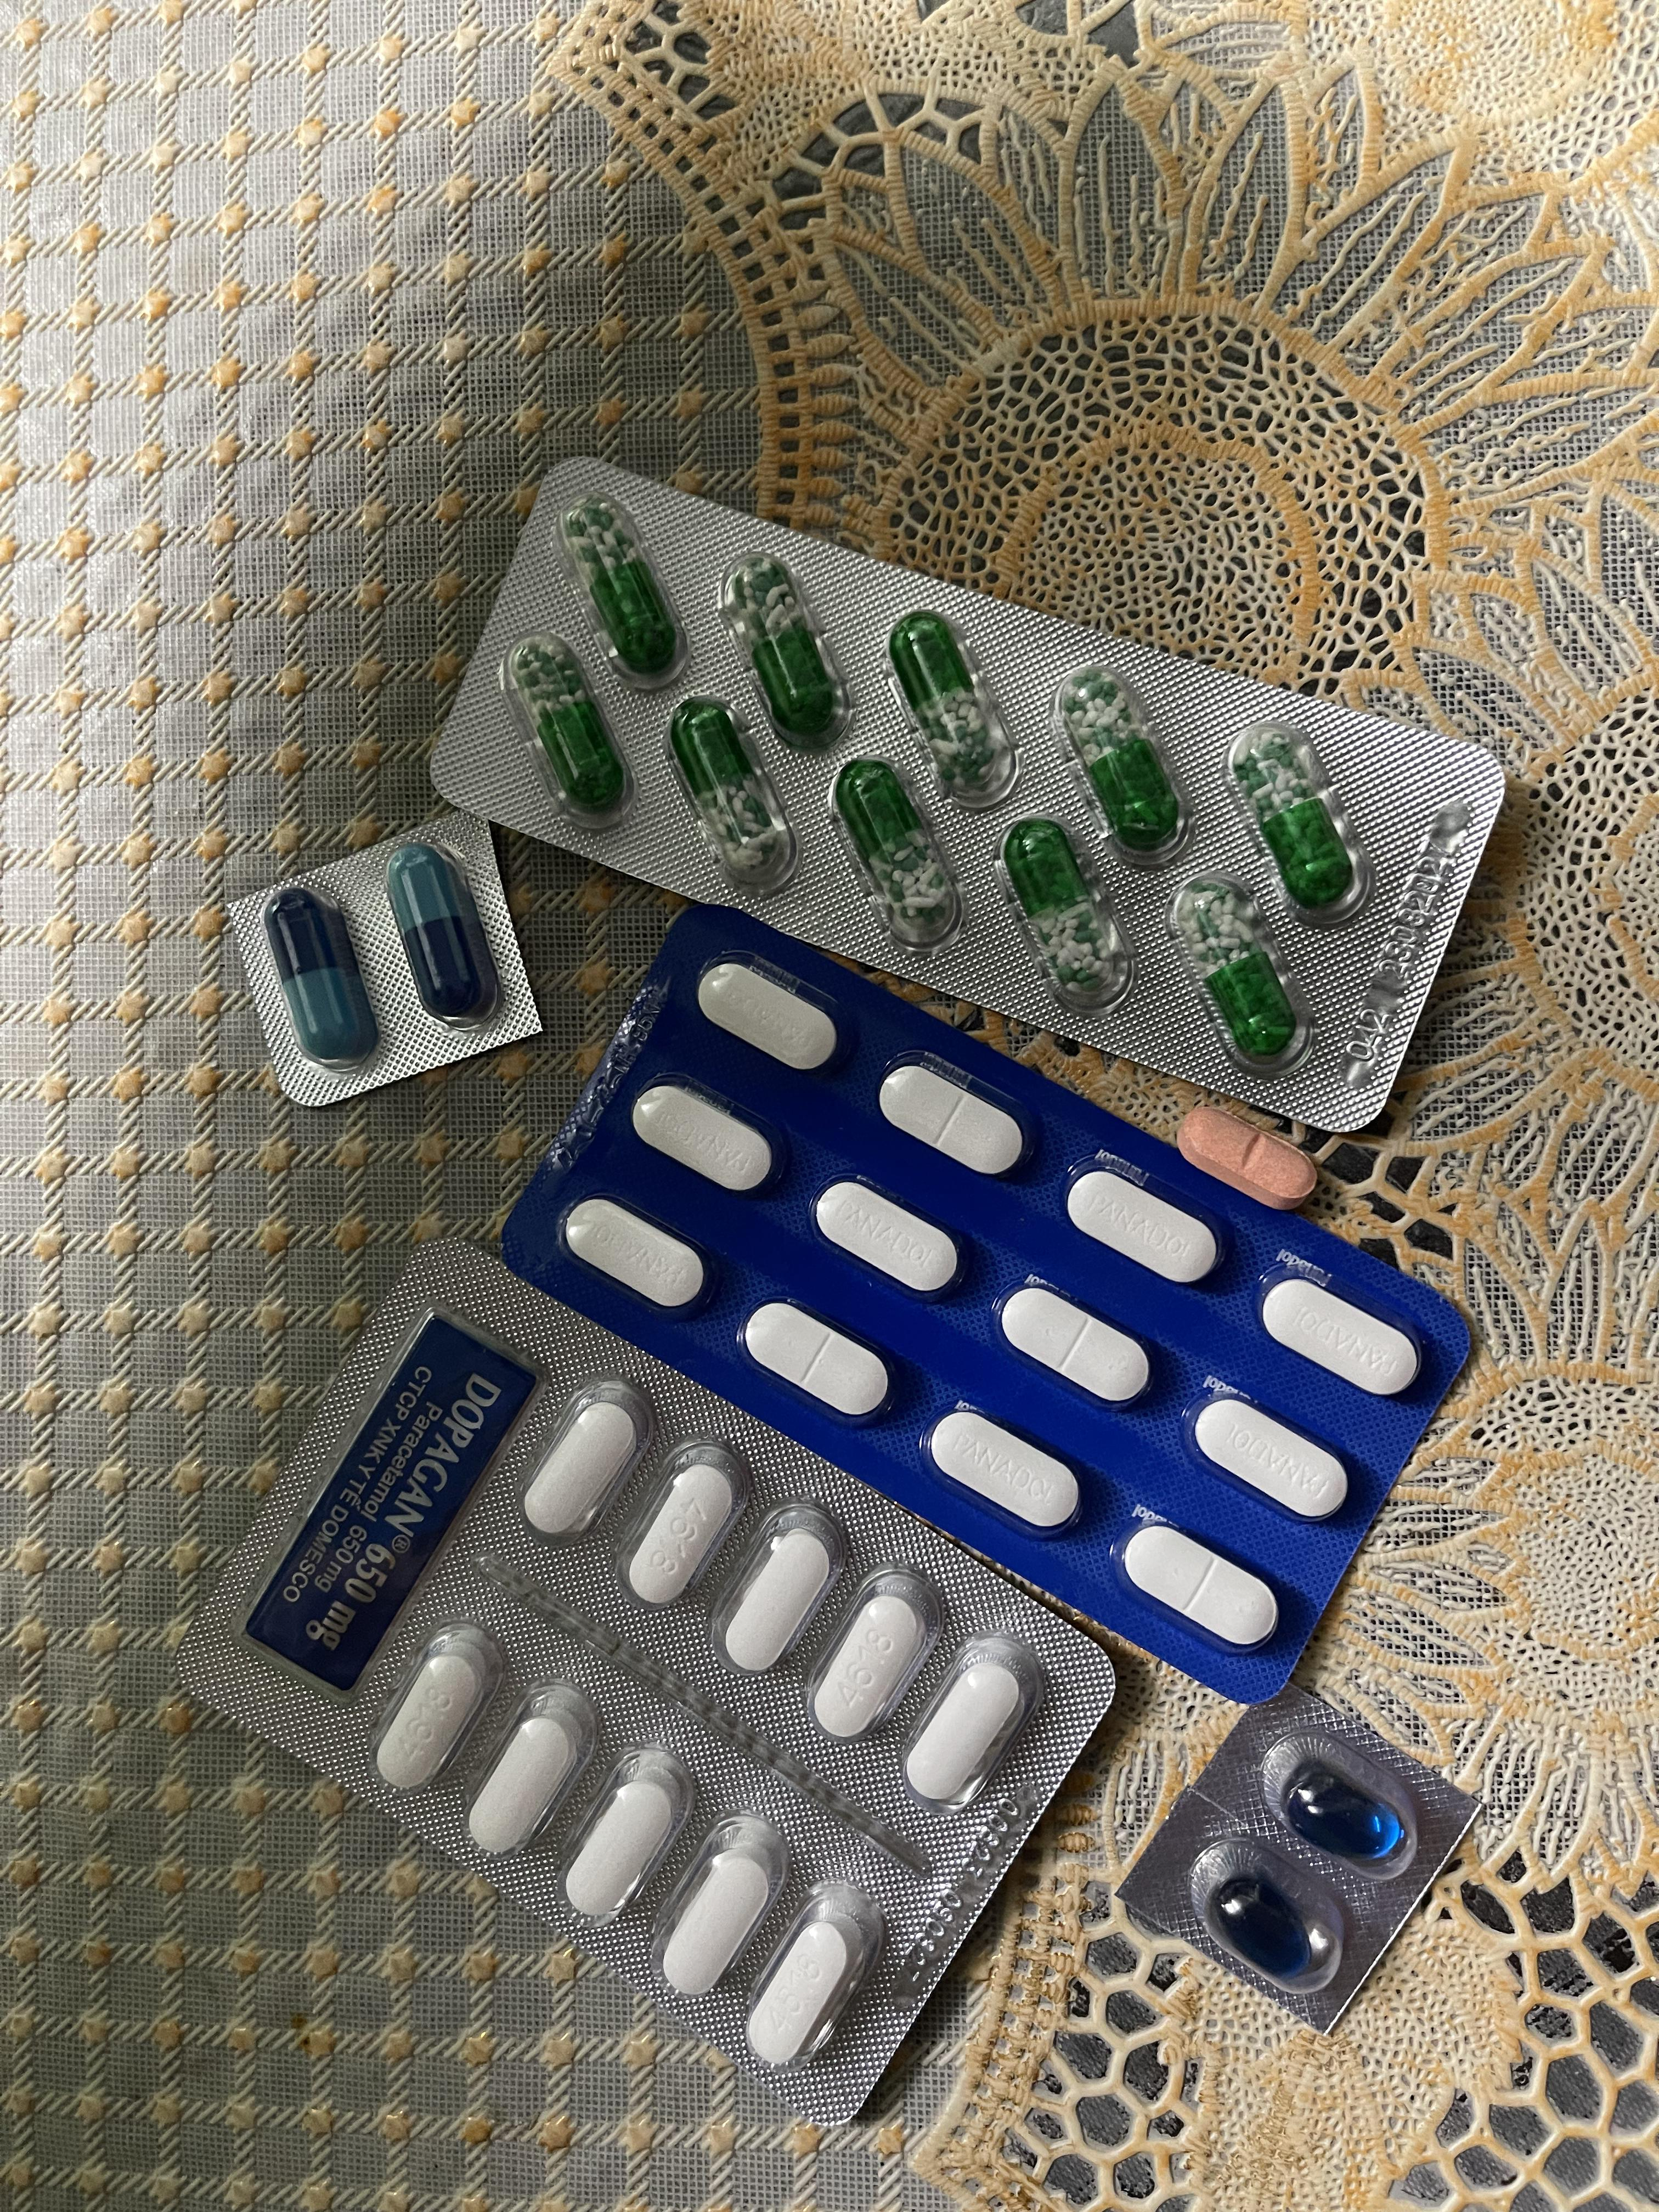Lincomyxin_500mg: (1279, 1761, 1410, 1865), (1206, 1872, 1316, 1982)
Loratadine_10mg: (1183, 1104, 1317, 1209)
Paracetamol_350mg: (1260, 1277, 1425, 1400), (1124, 1517, 1281, 1646), (1188, 1399, 1347, 1524), (995, 1284, 1148, 1409), (927, 1409, 1080, 1534), (1068, 1167, 1223, 1287), (814, 1181, 964, 1299), (742, 1301, 887, 1423), (878, 1061, 1030, 1176), (561, 1197, 706, 1313), (633, 1082, 777, 1191), (695, 960, 836, 1066)
Paracetamol_500mg: (903, 1629, 1047, 1813), (558, 1745, 697, 1925), (467, 1681, 603, 1860), (709, 1501, 847, 1670), (369, 1623, 504, 1791), (519, 1378, 657, 1536), (660, 1848, 772, 1998), (748, 1919, 857, 2064), (814, 1594, 927, 1733), (626, 1467, 735, 1604)
Paracetamol_650mg: (1175, 874, 1304, 1059), (836, 754, 953, 932), (1007, 822, 1117, 995), (1065, 674, 1175, 845), (890, 608, 997, 782), (1241, 737, 1351, 900), (568, 505, 673, 671), (730, 559, 830, 732), (516, 641, 619, 806), (676, 704, 777, 860)
pill: (261, 885, 382, 1071), (383, 843, 497, 1028)
